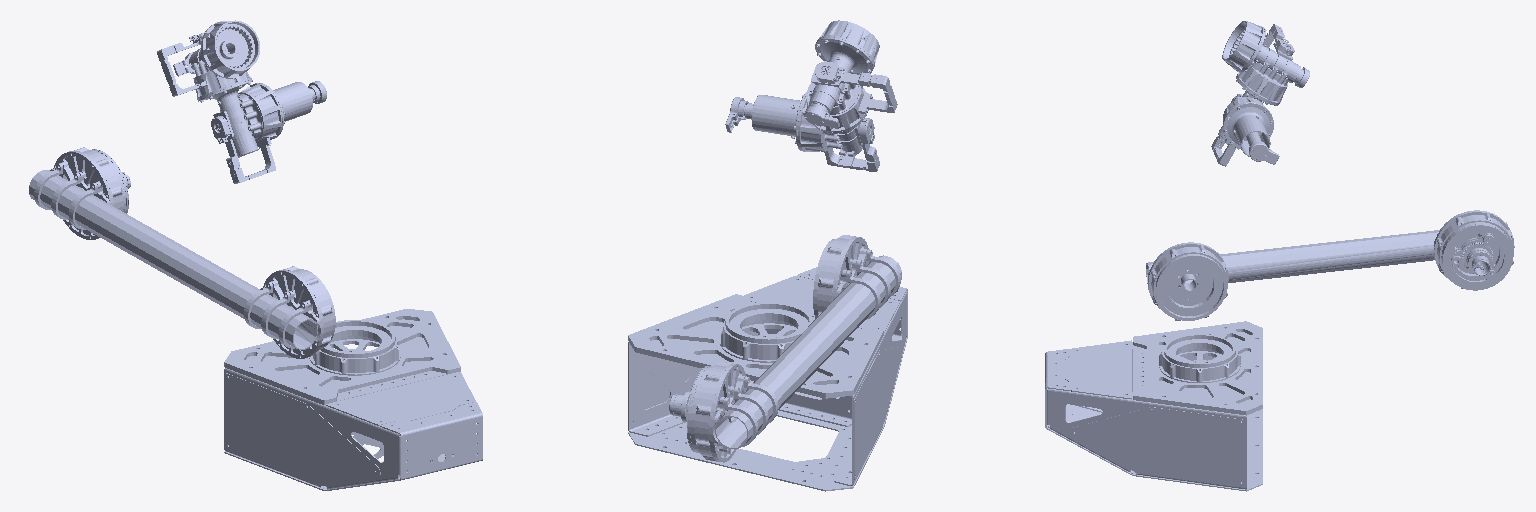
URDF robot description (URDF_PART_FILES):
<?xml version="1.0" encoding="utf-8"?>
<!-- This URDF was automatically created by SolidWorks to URDF Exporter! Originally created by Stephen Brawner (brawner@gmail.com) 
     Commit Version: 1.6.0-4-g7f85cfe  Build Version: 1.6.7995.38578
     For more information, please see http://wiki.ros.org/sw_urdf_exporter -->
<robot
  name="URDF_PART_FILES">
  <link
    name="base_link">
    <inertial>
      <origin
        xyz="0.124895291114619 0.105803300474521 0.151689368311352"
        rpy="0 0 0" />
      <mass
        value="0.964885521720054" />
      <inertia
        ixx="0.00737801555834588"
        ixy="3.46523316685227E-08"
        ixz="4.42994703749863E-08"
        iyy="0.0112664844620674"
        iyz="-0.000899960613165917"
        izz="0.00586330404662385" />
    </inertial>
    <visual>
      <origin
        xyz="0 0 0"
        rpy="0 0 0" />
      <geometry>
        <mesh
          filename="package://URDF_PART_FILES/meshes/base_link.STL" />
      </geometry>
      <material
        name="">
        <color
          rgba="0.792156862745098 0.819607843137255 0.933333333333333 1" />
      </material>
    </visual>
    <collision>
      <origin
        xyz="0 0 0"
        rpy="0 0 0" />
      <geometry>
        <mesh
          filename="package://URDF_PART_FILES/meshes/base_link.STL" />
      </geometry>
    </collision>
  </link>
  <link
    name="link1">
    <inertial>
      <origin
        xyz="0.114459650115267 0.000894475466029554 4.63193089098174E-05"
        rpy="0 0 0" />
      <mass
        value="1.06782992821244" />
      <inertia
        ixx="0.00110450364652873"
        ixy="-1.13558642402736E-06"
        ixz="0.000123600017443695"
        iyy="0.0010668360523279"
        iyz="-7.98361132115831E-07"
        izz="0.00136059075592228" />
    </inertial>
    <visual>
      <origin
        xyz="0 0 0"
        rpy="0 0 0" />
      <geometry>
        <mesh
          filename="package://URDF_PART_FILES/meshes/link1.STL" />
      </geometry>
      <material
        name="">
        <color
          rgba="0.792156862745098 0.819607843137255 0.933333333333333 1" />
      </material>
    </visual>
    <collision>
      <origin
        xyz="0 0 0"
        rpy="0 0 0" />
      <geometry>
        <mesh
          filename="package://URDF_PART_FILES/meshes/link1.STL" />
      </geometry>
    </collision>
  </link>
  <joint
    name="J1"
    type="revolute">
    <origin
      xyz="0.1249 -0.106 0.15434"
      rpy="2.6199 -1.5571 0.6857" />
    <parent
      link="base_link" />
    <child
      link="link1" />
    <axis
      xyz="0.99991 0.0068196 -0.011865" />
    <limit
      lower="0"
      upper="0"
      effort="0"
      velocity="0" />
  </joint>
  <link
    name="link2">
    <inertial>
      <origin
        xyz="-0.0727312955042903 -0.261084601636969 -0.152093536327788"
        rpy="0 0 0" />
      <mass
        value="0.692669362097279" />
      <inertia
        ixx="0.00581162431890537"
        ixy="3.66152054222498E-06"
        ixz="-7.38995480405447E-06"
        iyy="0.00189230548123107"
        iyz="-0.00194817270298663"
        izz="0.00406780326105112" />
    </inertial>
    <visual>
      <origin
        xyz="0 0 0"
        rpy="0 0 0" />
      <geometry>
        <mesh
          filename="package://URDF_PART_FILES/meshes/link2.STL" />
      </geometry>
      <material
        name="">
        <color
          rgba="0.792156862745098 0.819607843137255 0.933333333333333 1" />
      </material>
    </visual>
    <collision>
      <origin
        xyz="0 0 0"
        rpy="0 0 0" />
      <geometry>
        <mesh
          filename="package://URDF_PART_FILES/meshes/link2.STL" />
      </geometry>
    </collision>
  </link>
  <joint
    name="J2"
    type="revolute">
    <origin
      xyz="0.096952 0.00025571 -0.043073"
      rpy="1.3139 -1.5629 -1.7961" />
    <parent
      link="link1" />
    <child
      link="link2" />
    <axis
      xyz="0.99991 0.0068196 -0.011865" />
    <limit
      lower="-1.75"
      upper="1.55"
      effort="0"
      velocity="0" />
  </joint>
  <link
    name="link3">
    <inertial>
      <origin
        xyz="0.0366028999656508 -0.0895330260674386 0.118561290612098"
        rpy="0 0 0" />
      <mass
        value="1.15373119624722" />
      <inertia
        ixx="0.00391492060968911"
        ixy="-6.46459234827351E-05"
        ixz="-0.00017879907270972"
        iyy="0.00149074655925531"
        iyz="0.000919585901244272"
        izz="0.00339029817500588" />
    </inertial>
    <visual>
      <origin
        xyz="0 0 0"
        rpy="0 0 0" />
      <geometry>
        <mesh
          filename="package://URDF_PART_FILES/meshes/link3.STL" />
      </geometry>
      <material
        name="">
        <color
          rgba="0.792156862745098 0.819607843137255 0.933333333333333 1" />
      </material>
    </visual>
    <collision>
      <origin
        xyz="0 0 0"
        rpy="0 0 0" />
      <geometry>
        <mesh
          filename="package://URDF_PART_FILES/meshes/link3.STL" />
      </geometry>
    </collision>
  </link>
  <joint
    name="J3"
    type="revolute">
    <origin
      xyz="-6.0514E-05 -0.41827 -0.24551"
      rpy="-2.764 0.020381 0.017534" />
    <parent
      link="link2" />
    <child
      link="link3" />
    <axis
      xyz="0.99991 0.0068196 -0.011865" />
    <limit
      lower="-2.85"
      upper="2.5"
      effort="0"
      velocity="0" />
  </joint>
  <link
    name="link4">
    <inertial>
      <origin
        xyz="-0.0554159926220432 -0.0144686246475618 0.551721377853367"
        rpy="0 0 0" />
      <mass
        value="0.154860900976226" />
      <inertia
        ixx="0.000103495914727815"
        ixy="1.35472398196803E-06"
        ixz="-5.2744188577288E-07"
        iyy="0.000100899782063784"
        iyz="2.75058112925981E-06"
        izz="0.000106374165596846" />
    </inertial>
    <visual>
      <origin
        xyz="0 0 0"
        rpy="0 0 0" />
      <geometry>
        <mesh
          filename="package://URDF_PART_FILES/meshes/link4.STL" />
      </geometry>
      <material
        name="">
        <color
          rgba="0.792156862745098 0.819607843137255 0.933333333333333 1" />
      </material>
    </visual>
    <collision>
      <origin
        xyz="0 0 0"
        rpy="0 0 0" />
      <geometry>
        <mesh
          filename="package://URDF_PART_FILES/meshes/link4.STL" />
      </geometry>
    </collision>
  </link>
  <joint
    name="J4"
    type="fixed">
    <origin
      xyz="0.026329 -0.96807 0.20169"
      rpy="-1.5707 0.0050441 0.018685" />
    <parent
      link="link3" />
    <child
      link="link4" />
    <axis
      xyz="0 0 0" />
  </joint>
  <link
    name="link5">
    <inertial>
      <origin
        xyz="-0.0433912048891215 0.014770306606402 0.0313640863541808"
        rpy="0 0 0" />
      <mass
        value="0.198378759375795" />
      <inertia
        ixx="0.000134196720597321"
        ixy="4.77514343719461E-07"
        ixz="1.12912549007836E-06"
        iyy="0.000128445544255741"
        iyz="-9.0529141025446E-06"
        izz="0.000114024382208925" />
    </inertial>
    <visual>
      <origin
        xyz="0 0 0"
        rpy="0 0 0" />
      <geometry>
        <mesh
          filename="package://URDF_PART_FILES/meshes/link5.STL" />
      </geometry>
      <material
        name="">
        <color
          rgba="0.792156862745098 0.819607843137255 0.933333333333333 1" />
      </material>
    </visual>
    <collision>
      <origin
        xyz="0 0 0"
        rpy="0 0 0" />
      <geometry>
        <mesh
          filename="package://URDF_PART_FILES/meshes/link5.STL" />
      </geometry>
    </collision>
  </link>
  <joint
    name="J4-5"
    type="revolute">
    <origin
      xyz="-0.074526 -0.021852 0.55468"
      rpy="1.5615 0.018575 -0.0051088" />
    <parent
      link="link4" />
    <child
      link="link5" />
    <axis
      xyz="0.99991 0.0068196 -0.011865" />
    <limit
      lower="-2.85"
      upper="0.75"
      effort="0"
      velocity="0" />
  </joint>
  <link
    name="link6">
    <inertial>
      <origin
        xyz="-0.00156568688680547 -0.0220990304307618 0.0033870355749327"
        rpy="0 0 0" />
      <mass
        value="0.171054908788993" />
      <inertia
        ixx="0.000112139723073371"
        ixy="-7.95733014065484E-07"
        ixz="2.10001517744292E-07"
        iyy="0.000103191289088596"
        iyz="9.00419260489293E-06"
        izz="0.000117436874559029" />
    </inertial>
    <visual>
      <origin
        xyz="0 0 0"
        rpy="0 0 0" />
      <geometry>
        <mesh
          filename="package://URDF_PART_FILES/meshes/link6.STL" />
      </geometry>
      <material
        name="">
        <color
          rgba="0.792156862745098 0.819607843137255 0.933333333333333 1" />
      </material>
    </visual>
    <collision>
      <origin
        xyz="0 0 0"
        rpy="0 0 0" />
      <geometry>
        <mesh
          filename="package://URDF_PART_FILES/meshes/link6.STL" />
      </geometry>
    </collision>
  </link>
  <joint
    name="J5-6"
    type="revolute">
    <origin
      xyz="-0.039566 0.045795 0.095768"
      rpy="-4.8633E-05 -0.013706 -0.028345" />
    <parent
      link="link5" />
    <child
      link="link6" />
    <axis
      xyz="0.0077139 0.43526 0.90027" />
    <limit
      lower="-1.88"
      upper="2.45"
      effort="0"
      velocity="0" />
  </joint>
  <link
    name="EE">
    <inertial>
      <origin
        xyz="-0.040752 -0.15136 0.092346"
        rpy="0 0 0" />
      <mass
        value="0.55463" />
      <inertia
        ixx="0.00037806"
        ixy="1.5871E-05"
        ixz="2.0731E-05"
        iyy="0.00049841"
        iyz="8.0833E-05"
        izz="0.00059879" />
    </inertial>
    <visual>
      <origin
        xyz="0 0 0"
        rpy="0 0 0" />
      <geometry>
        <mesh
          filename="package://URDF_PART_FILES/meshes/EE.STL" />
      </geometry>
      <material
        name="">
        <color
          rgba="0.79216 0.81961 0.93333 1" />
      </material>
    </visual>
    <collision>
      <origin
        xyz="0 0 0"
        rpy="0 0 0" />
      <geometry>
        <mesh
          filename="package://URDF_PART_FILES/meshes/EE.STL" />
      </geometry>
    </collision>
  </link>
  <joint
    name="J6-EE"
    type="revolute">
    <origin
      xyz="0 0 0"
      rpy="-0.046378 -0.30702 0.15843" />
    <parent
      link="link6" />
    <child
      link="EE" />
    <axis
      xyz="0.0626 0.89832 -0.43486" />
    <limit
      lower="0"
      upper="0"
      effort="0"
      velocity="0" />
  </joint>
</robot>

--- What the picture shows (computed from the rendered views, not written in the file) ---
Views: 3 orthographic renders of the robot side by side, from view 1: azimuth 30°, elevation 25°; view 2: azimuth 150°, elevation 25°; view 3: azimuth 270°, elevation 25°.
Robot: URDF_PART_FILES — 8 links, 7 joints (6 revolute, 1 fixed); root link base_link; default pose: all joints at 0.
Visible links, largest first — view 1: base_link, link2, link4, link5, link6; view 2: base_link, link2, link4, link6, link5; view 3: base_link, link2, link4, link6, link5.
Boxes of the visible links, x1,y1,x2,y2 form: base_link: [224, 309, 482, 490]; link2: [29, 147, 335, 358]; link4: [211, 81, 326, 183]; link5: [157, 32, 262, 157]; link6: [173, 20, 259, 78]; base_link: [628, 267, 907, 491]; link2: [669, 235, 901, 462]; link4: [725, 92, 879, 171]; link6: [804, 20, 879, 128]; link5: [806, 61, 897, 167]; base_link: [1045, 321, 1262, 491]; link2: [1146, 210, 1514, 320]; link4: [1211, 94, 1279, 166]; link6: [1222, 21, 1309, 87]; link5: [1219, 24, 1294, 139].
Bounding box of the posed robot: 0.4414 × 0.7835 × 0.7022 m (x, y, z).
5 mesh visuals loaded from 8 distinct referenced files (5 binary STL); not drawn: 3 (reference not matched to a file when rendering).
